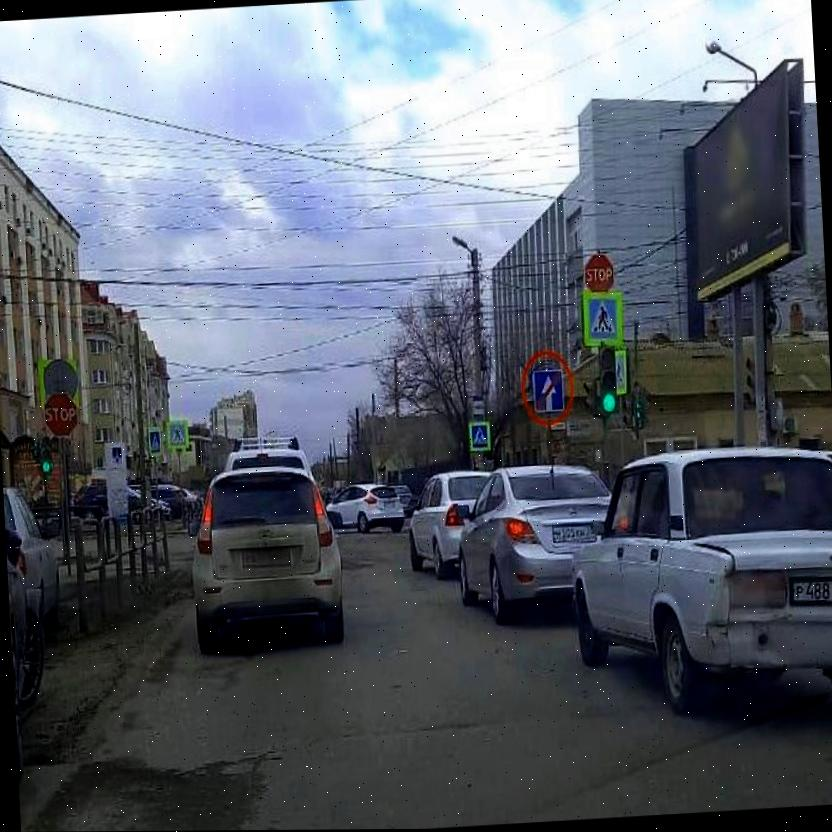Sign: (43, 392, 80, 437), (582, 256, 614, 296)
